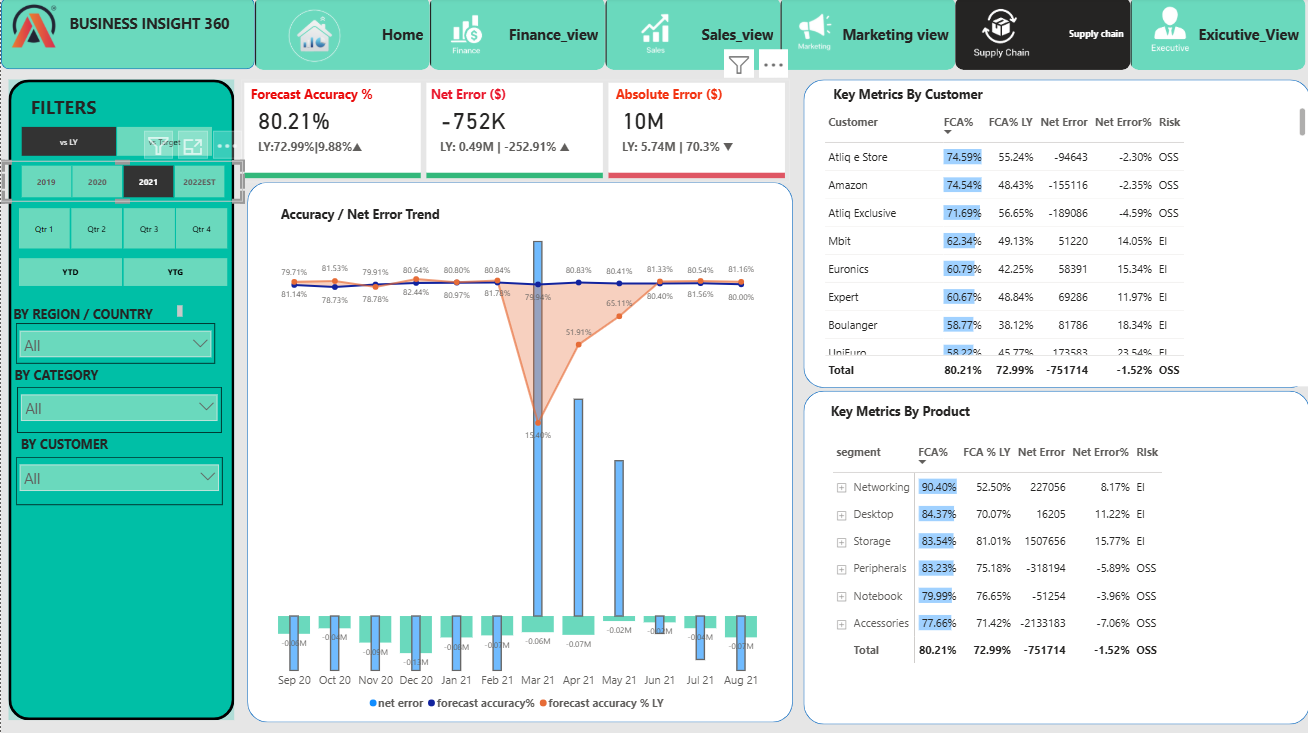

The dashboard page shown, as its layout file describes it:
{"tool":"powerbi","page":{"name":"Supply chain","canvas":[1920,1080],"ordinal":4},"visuals":[{"type":"shape","box":[1176.7,121,744,452.4],"z":0},{"type":"lineClusteredColumnComboChart","title":"net error visual","fields":{"Category":["dim_date.date"],"Y":["Report measures.net error"],"Y2":["Report measures.forecast accuracy%","Report measures.forecast accuracy LY"]},"box":[377.9,345.5,761.2,711.7],"z":0,"group":"g1"},{"type":"tableEx","fields":{"Values":["dim_customer.customer","Report measures.forecast accuracy%","Report measures.forecast accuracy LY","Report measures.net error","Report measures.net error%","Report measures.risk"]},"box":[1204.2,158.6,715.8,413.2],"z":1000},{"type":"shape","box":[1176.7,578,742.9,489.7],"z":2000},{"type":"pivotTable","fields":{"Rows":["dim_product.segment","dim_product.category","dim_product.product"],"Values":["Report measures.forecast accuracy%","Report measures.forecast accuracy LY","Report measures.net error","Report measures.net error%","Report measures.risk"]},"box":[1215.8,642.4,674,413.3],"z":3000},{"type":"shape","box":[361.2,271.8,800.6,793.2],"z":4000},{"type":"group","id":"g1","title":"net error gr","box":[377.9,345.5,761.2,711.7],"z":6000},{"type":"shape","box":[0,0,372.4,106],"z":7000},{"type":"image","box":[11,2.4,75.8,80.7],"z":8000},{"type":"textbox","box":[95.4,18.3,256.8,38.5],"z":9000},{"type":"pageNavigator","box":[372.9,0,1545.2,107.1],"z":10000},{"type":"image","box":[1661.5,0,112.6,99.7],"z":11000},{"type":"image","box":[897.2,3.7,125.5,94.2],"z":12000},{"type":"image","box":[625.8,0,120,99.7],"z":13000},{"type":"image","box":[1146.5,12.9,88.6,81.2],"z":14000},{"type":"image","box":[1412.3,0,108.9,105.2],"z":15000},{"type":"shape","box":[11.2,121,331.4,940.3],"z":16000},{"type":"slicer","fields":{"Values":["set bm.Benchmark"]},"box":[0,183.4,337.5,56.9],"z":17000},{"type":"slicer","fields":{"Values":["dim_date.date.Variation.Date Hierarchy.Quarter"]},"box":[0,302.7,355.8,73.4],"z":18000},{"type":"slicer","fields":{"Values":["fiscal_year.fy_desc"]},"box":[0,240.3,355.8,60.5],"z":19000},{"type":"slicer","fields":{"Values":["dim_date.Ytd_Ytg"]},"box":[0,376,355.8,55],"z":20000},{"type":"textbox","box":[39.1,137.8,145.2,46.5],"z":21000},{"type":"slicer","fields":{"Values":["dim_market.region","dim_market.market"]},"box":[22.3,478.5,292.3,59.6],"z":22000},{"type":"slicer","fields":{"Values":["dim_customer.customer"]},"box":[22.3,675.9,303.5,70.8],"z":23000},{"type":"slicer","fields":{"Values":["category.category"]},"box":[24.2,571.6,299.8,67],"z":24000},{"type":"textbox","box":[13,446.9,258.8,31.7],"z":25000},{"type":"textbox","box":[14.5,538.1,175.3,35.5],"z":26000},{"type":"textbox","box":[24.2,638.6,193.6,35.4],"z":27000},{"type":"cardVisual","fields":{"Data":["Report measures.forecast accuracy%","Report measures.net error","Report measures.ABS Error"]},"box":[352.2,121.1,805.2,150.4],"z":28000},{"type":"textbox","box":[405.4,300.8,260.5,36.7],"z":29000},{"type":"textbox","box":[1216.1,124.7,251.3,36.7],"z":30000},{"type":"textbox","box":[1212.4,590.6,236.6,42.2],"z":31000},{"type":"textbox","box":[361.3,124.7,223.8,42.2],"z":32000},{"type":"textbox","box":[625.5,124.7,223.8,42.2],"z":33000},{"type":"textbox","box":[896.9,124.7,194.4,36.7],"z":34000},{"type":"image","box":[348.9,0,223.4,112.6],"z":35000}]}

Visuals, with their boxes on the page's 1920x1080 design canvas (x1, y1, x2, y2). These are canvas units, not pixel positions in the 1308x733 screenshot, which may show the page scaled, cropped or inside an application window:
shape: {"x1": 1177, "y1": 121, "x2": 1921, "y2": 573}
"net error visual" lineClusteredColumnComboChart: {"x1": 378, "y1": 346, "x2": 1139, "y2": 1057}
tableEx - dim_customer.customer x Report measures.forecast accuracy%: {"x1": 1204, "y1": 159, "x2": 1920, "y2": 572}
shape: {"x1": 1177, "y1": 578, "x2": 1920, "y2": 1068}
pivotTable - dim_product.segment x dim_product.category: {"x1": 1216, "y1": 642, "x2": 1890, "y2": 1056}
shape: {"x1": 361, "y1": 272, "x2": 1162, "y2": 1065}
"net error gr" group: {"x1": 378, "y1": 346, "x2": 1139, "y2": 1057}
shape: {"x1": 0, "y1": 0, "x2": 372, "y2": 106}
image: {"x1": 11, "y1": 2, "x2": 87, "y2": 83}
textbox: {"x1": 95, "y1": 18, "x2": 352, "y2": 57}
pageNavigator: {"x1": 373, "y1": 0, "x2": 1918, "y2": 107}
image: {"x1": 1662, "y1": 0, "x2": 1774, "y2": 100}
image: {"x1": 897, "y1": 4, "x2": 1023, "y2": 98}
image: {"x1": 626, "y1": 0, "x2": 746, "y2": 100}
image: {"x1": 1146, "y1": 13, "x2": 1235, "y2": 94}
image: {"x1": 1412, "y1": 0, "x2": 1521, "y2": 105}
shape: {"x1": 11, "y1": 121, "x2": 343, "y2": 1061}
slicer - set bm.Benchmark: {"x1": 0, "y1": 183, "x2": 338, "y2": 240}
slicer - dim_date.date.Variation.Date Hierarchy.Quarter: {"x1": 0, "y1": 303, "x2": 356, "y2": 376}
slicer - fiscal_year.fy_desc: {"x1": 0, "y1": 240, "x2": 356, "y2": 301}
slicer - dim_date.Ytd_Ytg: {"x1": 0, "y1": 376, "x2": 356, "y2": 431}
textbox: {"x1": 39, "y1": 138, "x2": 184, "y2": 184}
slicer - dim_market.region x dim_market.market: {"x1": 22, "y1": 478, "x2": 315, "y2": 538}
slicer - dim_customer.customer: {"x1": 22, "y1": 676, "x2": 326, "y2": 747}
slicer - category.category: {"x1": 24, "y1": 572, "x2": 324, "y2": 639}
textbox: {"x1": 13, "y1": 447, "x2": 272, "y2": 479}
textbox: {"x1": 14, "y1": 538, "x2": 190, "y2": 574}
textbox: {"x1": 24, "y1": 639, "x2": 218, "y2": 674}
cardVisual - Report measures.forecast accuracy% x Report measures.net error: {"x1": 352, "y1": 121, "x2": 1157, "y2": 272}
textbox: {"x1": 405, "y1": 301, "x2": 666, "y2": 338}
textbox: {"x1": 1216, "y1": 125, "x2": 1467, "y2": 161}
textbox: {"x1": 1212, "y1": 591, "x2": 1449, "y2": 633}
textbox: {"x1": 361, "y1": 125, "x2": 585, "y2": 167}
textbox: {"x1": 626, "y1": 125, "x2": 849, "y2": 167}
textbox: {"x1": 897, "y1": 125, "x2": 1091, "y2": 161}
image: {"x1": 349, "y1": 0, "x2": 572, "y2": 113}
